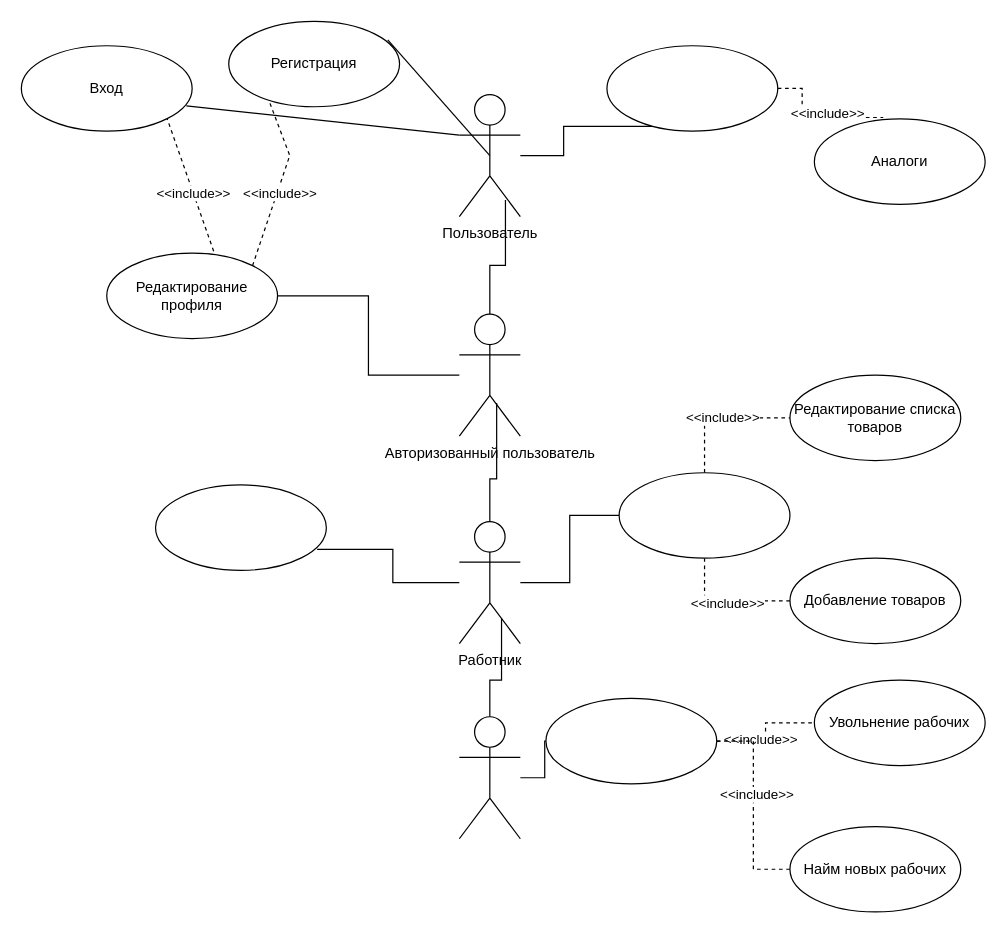
Some shapes in this 1007 by 933 pixel diagram are drawn without their labels. The centre of each missing label's shape, as x and y in pixels:
"Администратор" belongs at (x=489, y=777).
"Просмотр списка товаров" belongs at (x=692, y=88).
"Просмотр списков работников музея" belongs at (x=240, y=527).
"Работа с товарами" belongs at (x=704, y=515).
"Работа со списком работников музея" belongs at (x=631, y=740).
